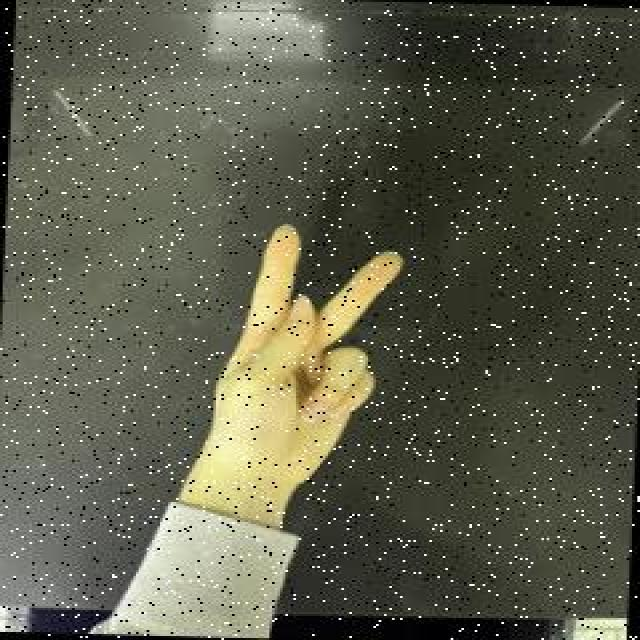K: (198, 216, 406, 490)
